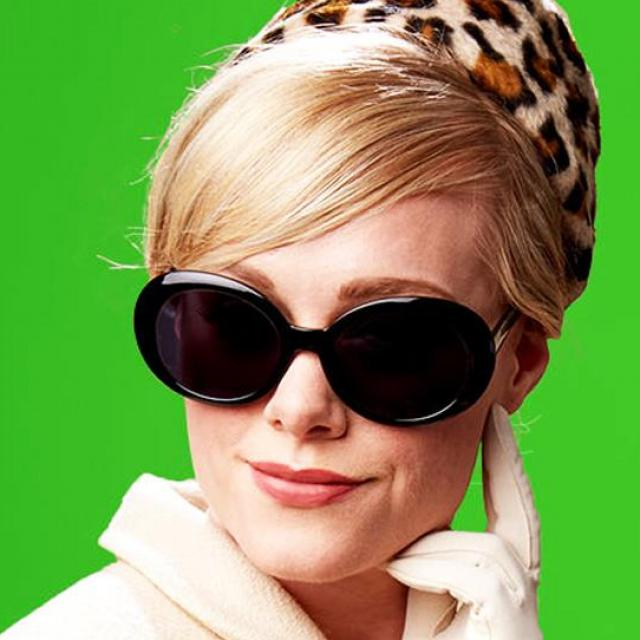Glasses: (132, 263, 501, 432)
